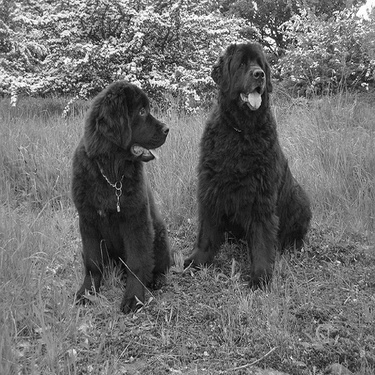dog: (174, 38, 315, 290), (67, 77, 177, 317)
